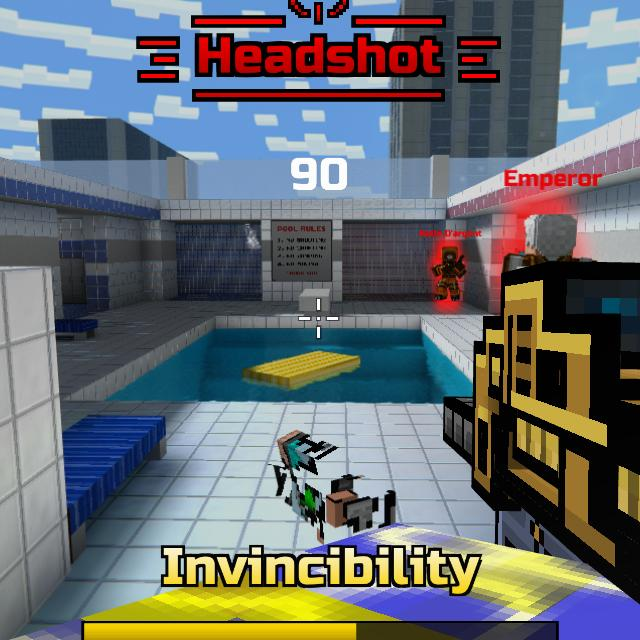Enemy: (503, 214, 598, 271), (432, 246, 467, 302)
